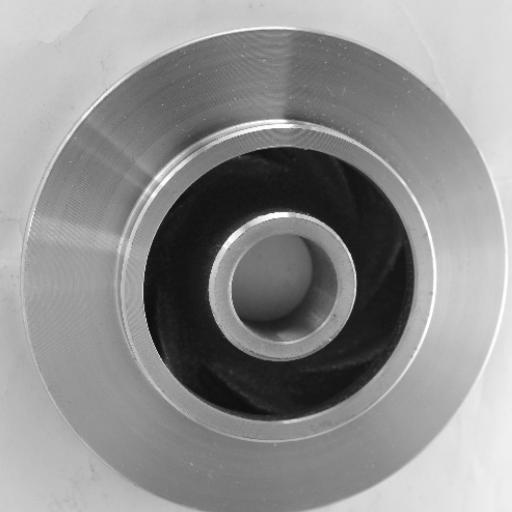polished_casting: (20, 25, 508, 512)
